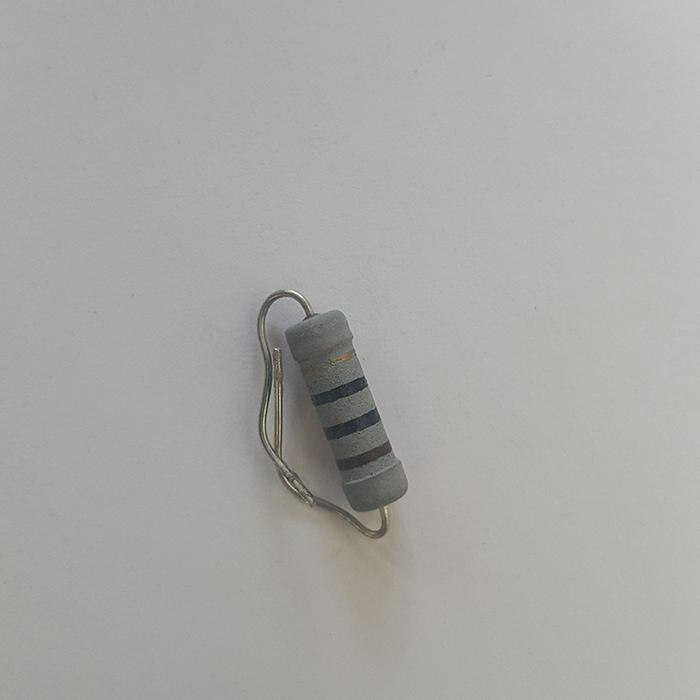resistor: (285, 308, 407, 510)
